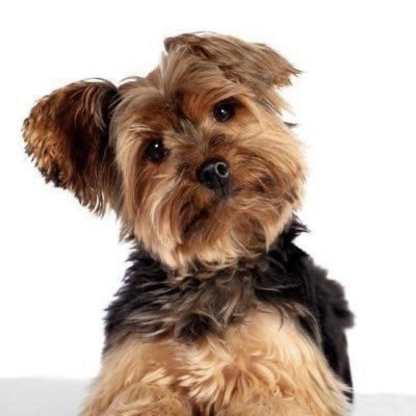yorkshire: (21, 30, 358, 416)
